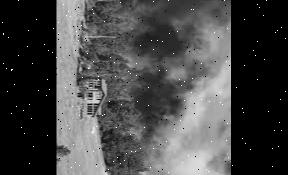fire: (115, 0, 184, 175)
